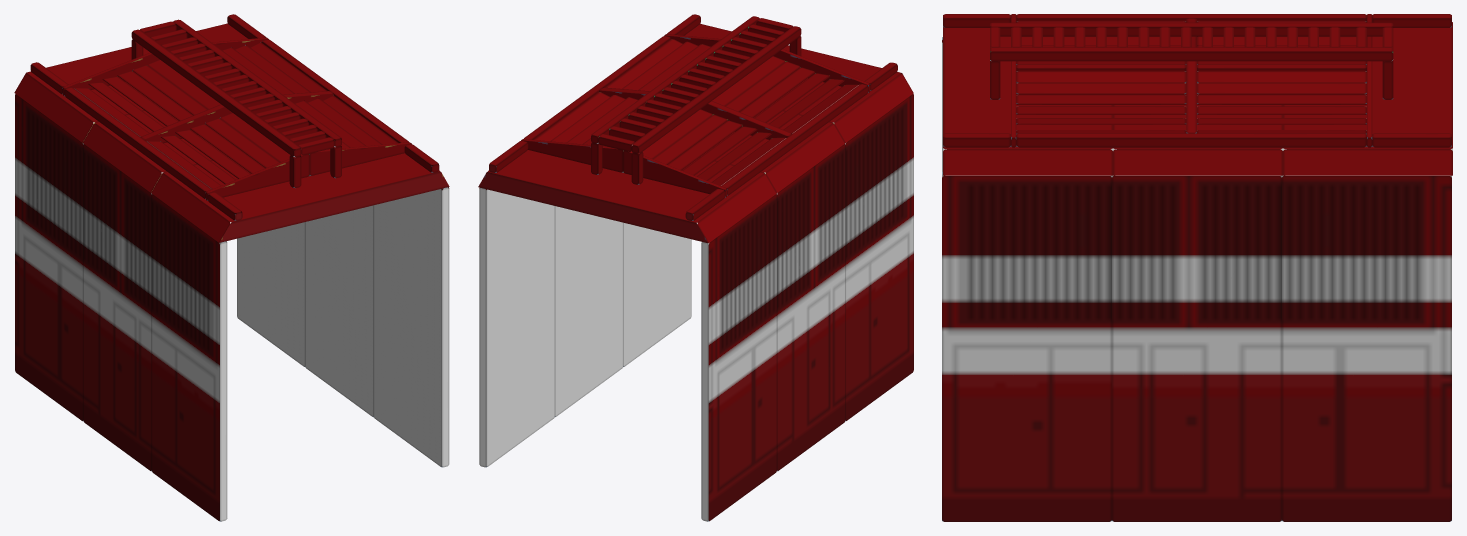
Rendered from df7g_enclosure_f.obj.
The picture shows the model from 3 angles, left to right: view 1: azimuth 30°, elevation 25°; view 2: azimuth 150°, elevation 25°; view 3: azimuth 270°, elevation 25°; orthographic projection. The views are drawn at different scales.
Visible parts, largest first — view 1: df7g_enclosure_f; view 2: df7g_enclosure_f; view 3: df7g_enclosure_f.
Part boxes in pixels (bbox=[...]): df7g_enclosure_f: bbox=[14, 14, 449, 521]; df7g_enclosure_f: bbox=[478, 14, 913, 521]; df7g_enclosure_f: bbox=[942, 14, 1452, 521].
Size of the model in its own units: 1.95 by 2.71 by 3.01.
